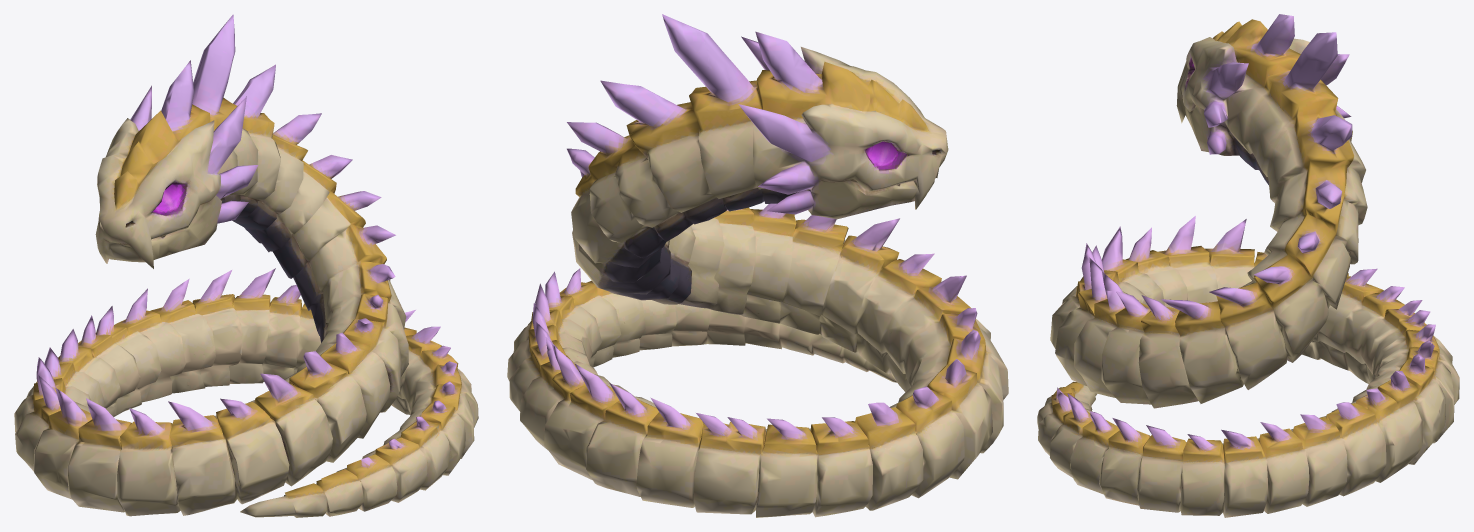
Rendered from source.glb.
3 renders of one model, left to right at view 1: azimuth 30°, elevation 25°; view 2: azimuth 150°, elevation 25°; view 3: azimuth 270°, elevation 25°, orthographic. The views are drawn at different scales.
Visible parts, largest first — view 1: tripo_node_ded405df-1142-4cf6-98f5-6c1b2b430588; view 2: tripo_node_ded405df-1142-4cf6-98f5-6c1b2b430588; view 3: tripo_node_ded405df-1142-4cf6-98f5-6c1b2b430588.
Part boxes in pixels (box(x1,y1,x2,y2)): tripo_node_ded405df-1142-4cf6-98f5-6c1b2b430588: box(14, 14, 478, 517); tripo_node_ded405df-1142-4cf6-98f5-6c1b2b430588: box(507, 14, 1008, 517); tripo_node_ded405df-1142-4cf6-98f5-6c1b2b430588: box(1037, 14, 1459, 517).
Bounding box in the file's own units: 1.26 × 1.15 × 1.08.
1 material, 1 textured.
